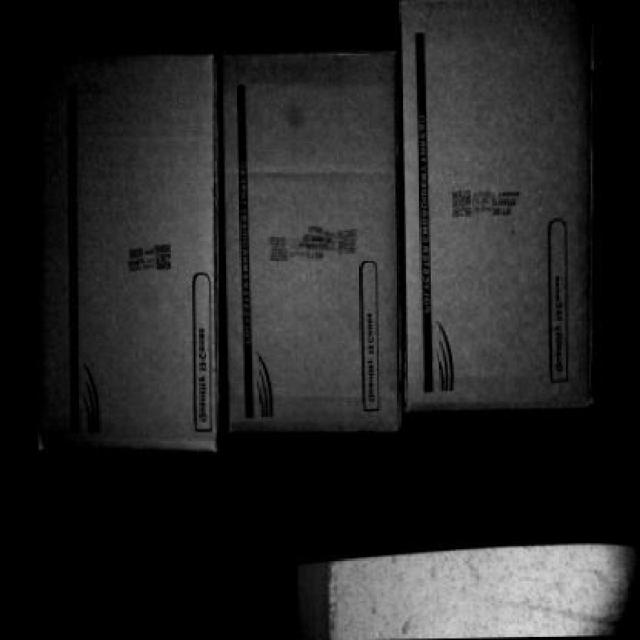cardboxes: (397, 0, 600, 415), (34, 60, 218, 448), (218, 54, 398, 438)
